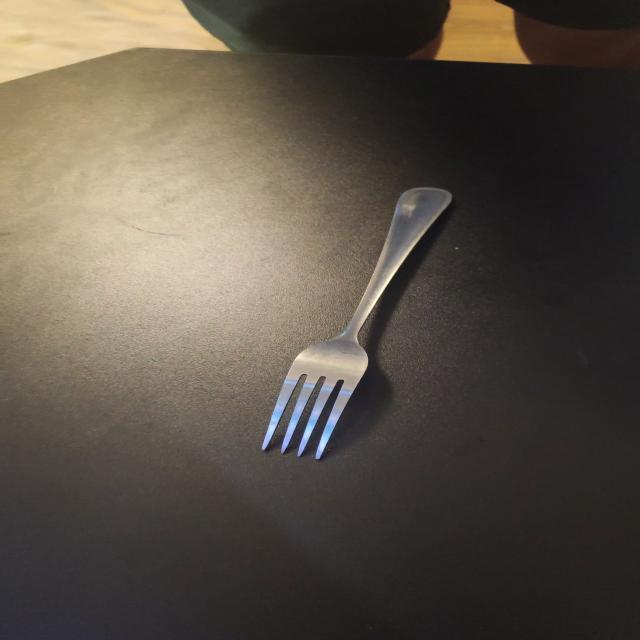plastic utensil: (262, 188, 451, 459)
